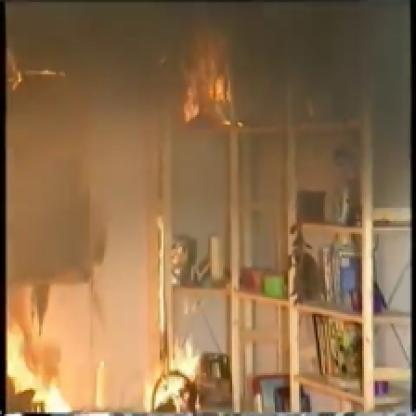fire: (0, 238, 112, 416), (137, 210, 230, 416), (174, 31, 253, 123)
